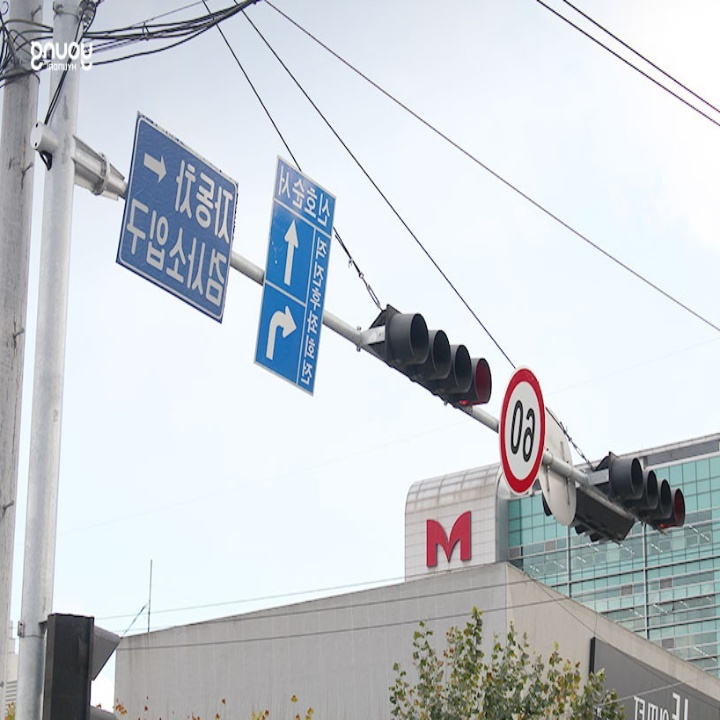right: (258, 299, 300, 367)
